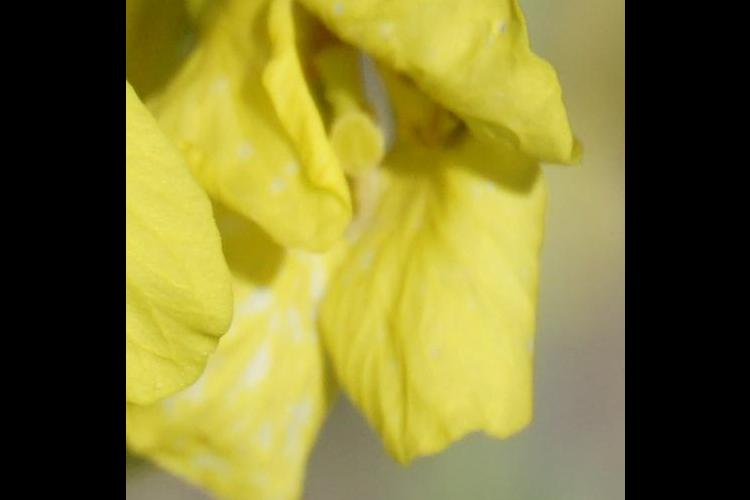yellow: (145, 1, 553, 477)
